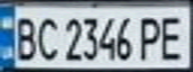2: (60, 14, 84, 62)
3: (78, 14, 100, 62)
4: (96, 12, 121, 62)
6: (115, 12, 139, 62)
B: (9, 12, 39, 62)
C: (33, 12, 60, 62)
E: (154, 11, 190, 61)
P: (136, 12, 166, 61)
